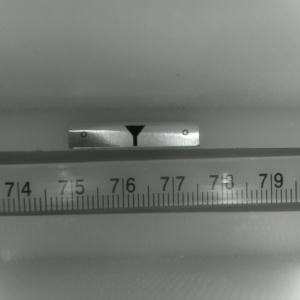3: (223, 174, 233, 189)
4: (21, 181, 32, 197)
5: (74, 180, 84, 195)
6: (125, 177, 135, 193)
7: (3, 181, 14, 197), (109, 178, 120, 193), (175, 176, 185, 191), (159, 176, 169, 191), (56, 181, 66, 195), (258, 173, 267, 188), (209, 175, 218, 189)
9: (274, 173, 283, 188)
finger: (122, 125, 145, 146)
